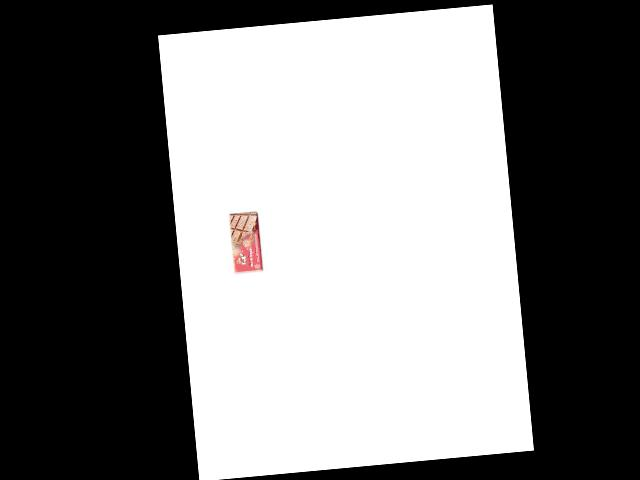chocolate: (227, 209, 264, 274)
